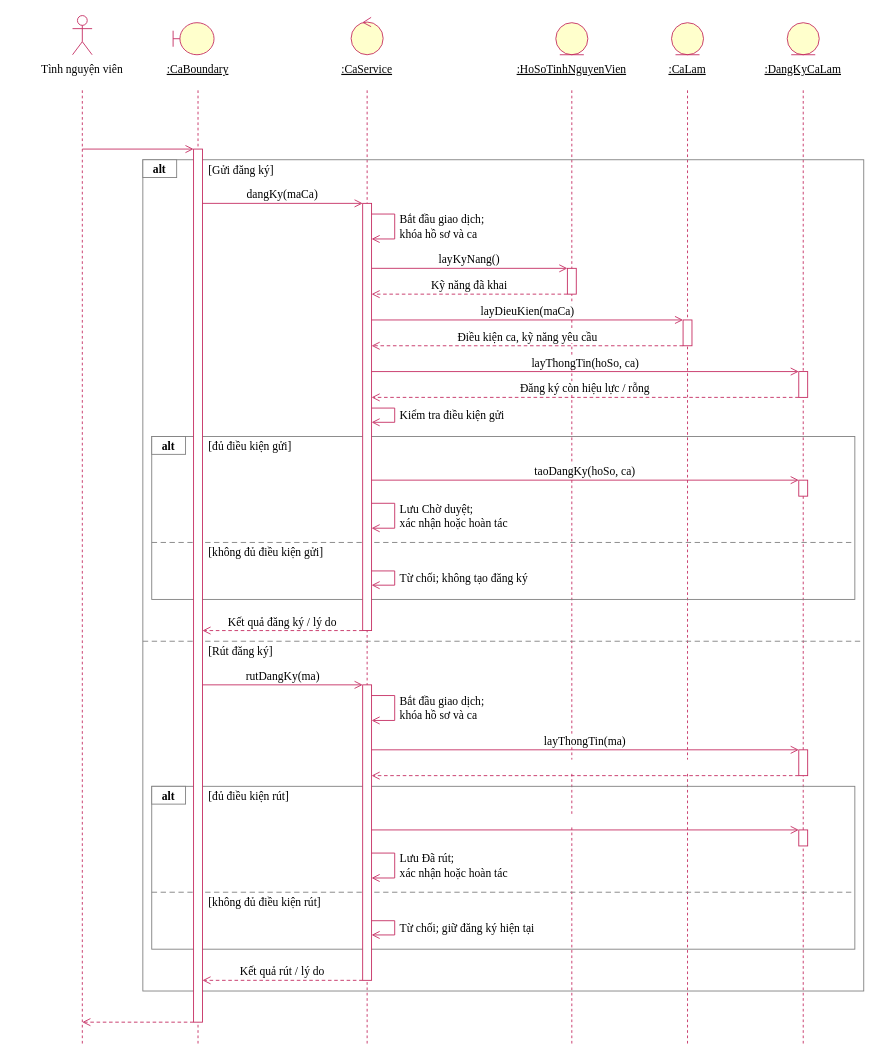
This 885x1062 diagram has some shape labels left out. Each missing label, with the centre of its shape:
Chọn gửi hoặc rút đăng ký: the point at 137,132
Chủ đăng ký, trạng thái, giờ bắt đầu ca: the point at 584,766
Hiển thị kết quả: the point at 137,1012
rut(): the point at 585,820
